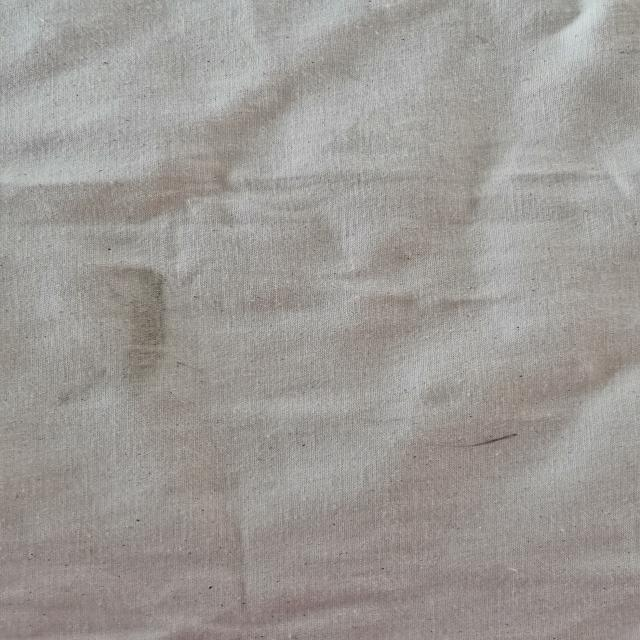taaaches: (75, 262, 180, 406), (421, 429, 526, 452), (55, 369, 112, 409), (169, 354, 206, 376)
